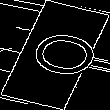O_E: (11, 26, 99, 84)
